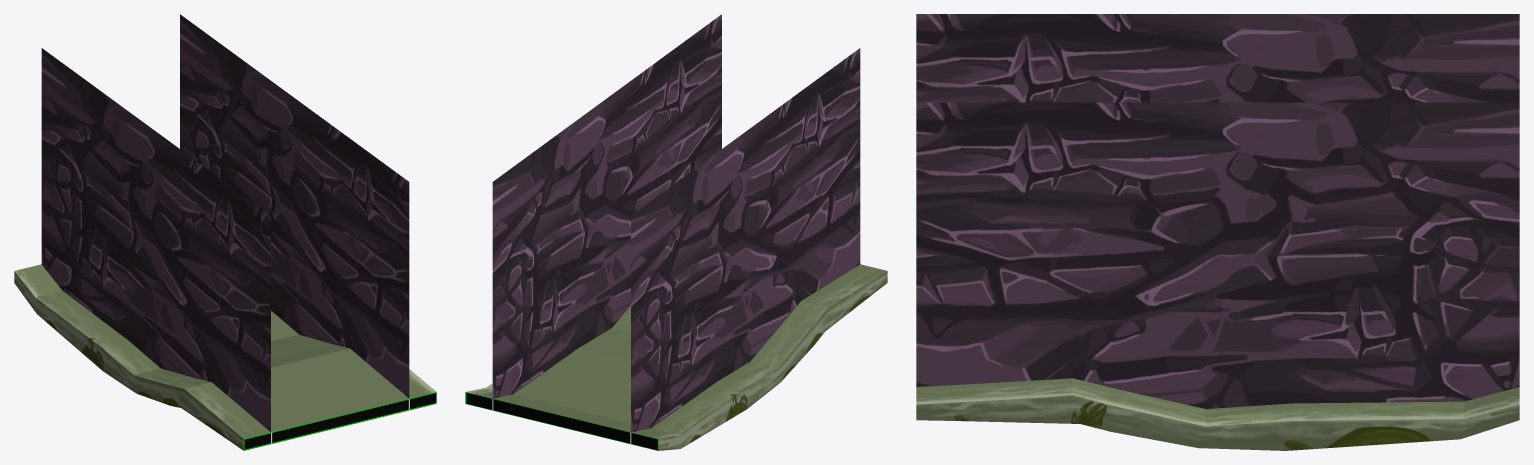
Rendered from tt_forest_midpiece01.FBX.
3 views of the same model, side by side, from view 1: azimuth 30°, elevation 25°; view 2: azimuth 150°, elevation 25°; view 3: azimuth 270°, elevation 25° (orthographic). The views are drawn at different scales.
Visible parts, largest first — view 1: tt_forest_midpiece01; view 2: tt_forest_midpiece01; view 3: tt_forest_midpiece01.
Boxes of the visible parts, x1,y1,x2,y2 form: tt_forest_midpiece01: (14, 14, 436, 450); tt_forest_midpiece01: (465, 14, 887, 450); tt_forest_midpiece01: (916, 14, 1519, 450).
Bounding box in the file's own units: 144 × 179 × 296.
